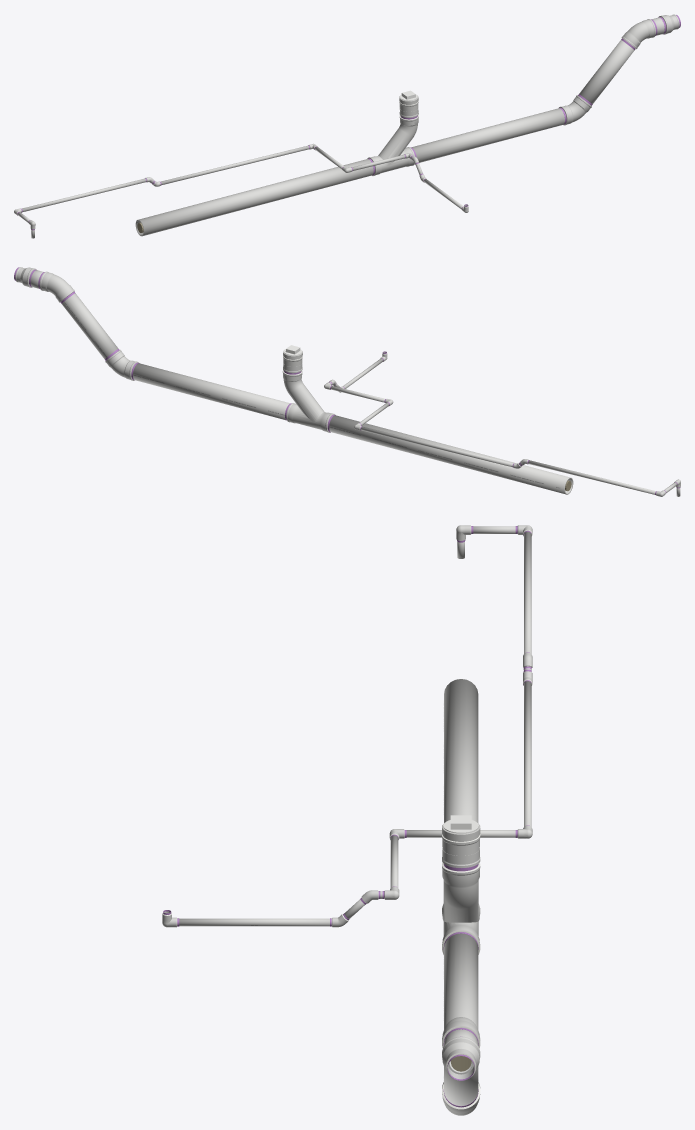
File: pipes_dwv__sewer-septic_spray+septic_overland_lee.glb
3 views of the same model, one above another, from view 1: azimuth 30°, elevation 25°; view 2: azimuth 150°, elevation 25°; view 3: azimuth 270°, elevation 25° (orthographic). The views are drawn at different scales.
Parts seen in each view (by area): view 1: pipe_dwv_sewer_septic, pipe_septic_air_line, cleanout_dwv_yard_spray; view 2: pipe_dwv_sewer_septic, pipe_septic_air_line, cleanout_dwv_yard_spray; view 3: pipe_dwv_sewer_septic, pipe_septic_air_line, cleanout_dwv_yard_spray, fit_increaser_pipe_dwv_sewer_septic.
Part boxes in pixels (bbox=[...]): pipe_dwv_sewer_septic: bbox=[135, 17, 664, 236]; pipe_septic_air_line: bbox=[14, 143, 468, 238]; cleanout_dwv_yard_spray: bbox=[367, 95, 418, 175]; pipe_dwv_sewer_septic: bbox=[30, 270, 573, 494]; pipe_septic_air_line: bbox=[324, 351, 680, 496]; cleanout_dwv_yard_spray: bbox=[282, 350, 335, 432]; pipe_dwv_sewer_septic: bbox=[442, 679, 480, 1115]; pipe_septic_air_line: bbox=[162, 525, 532, 927]; cleanout_dwv_yard_spray: bbox=[442, 823, 480, 954]; fit_increaser_pipe_dwv_sewer_septic: bbox=[442, 1036, 480, 1080].
Size of the model in its own units: 4.93 by 0.6694 by 1.22.
